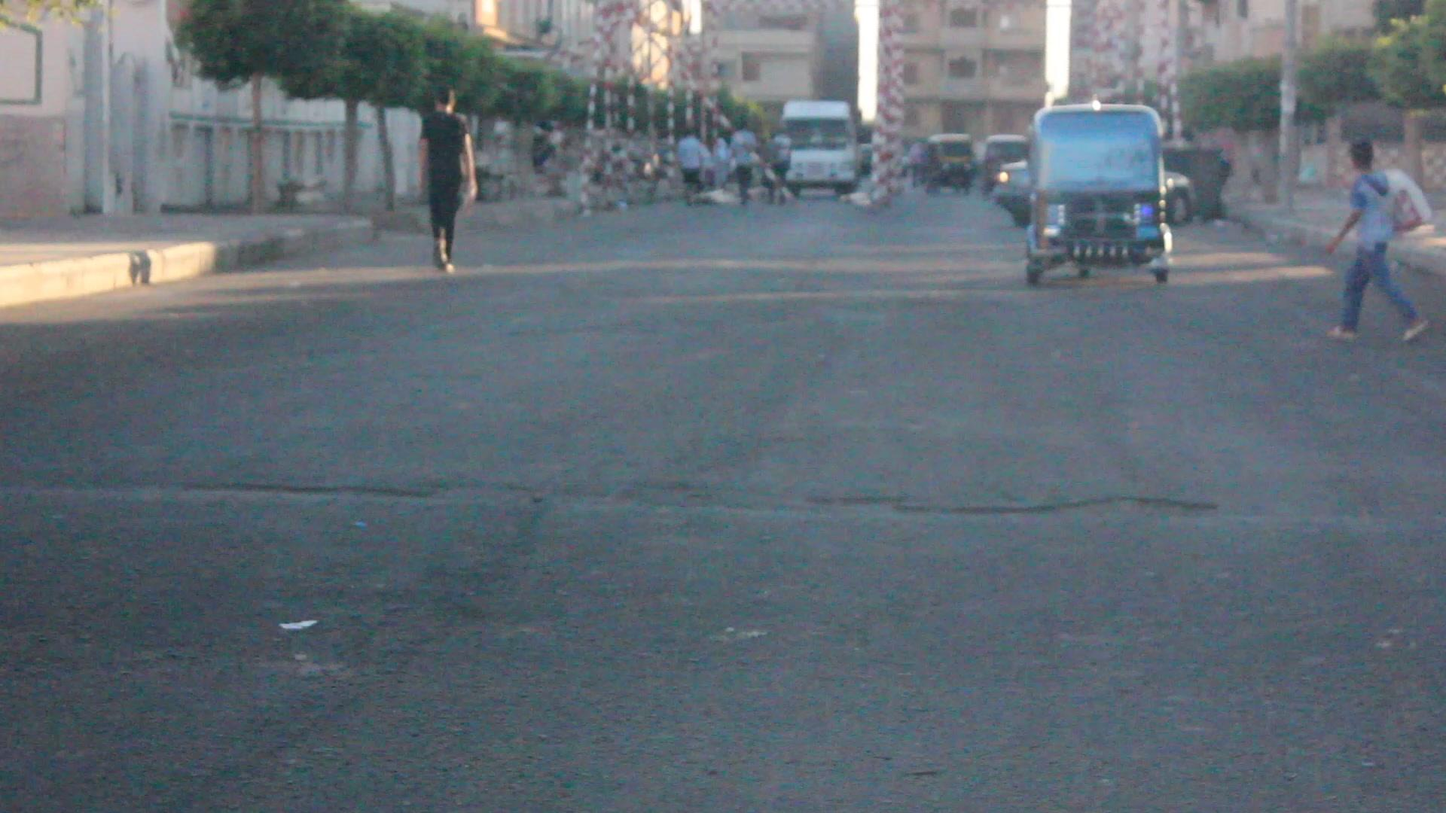Pothole: (122, 478, 682, 534), (825, 484, 1228, 548)
